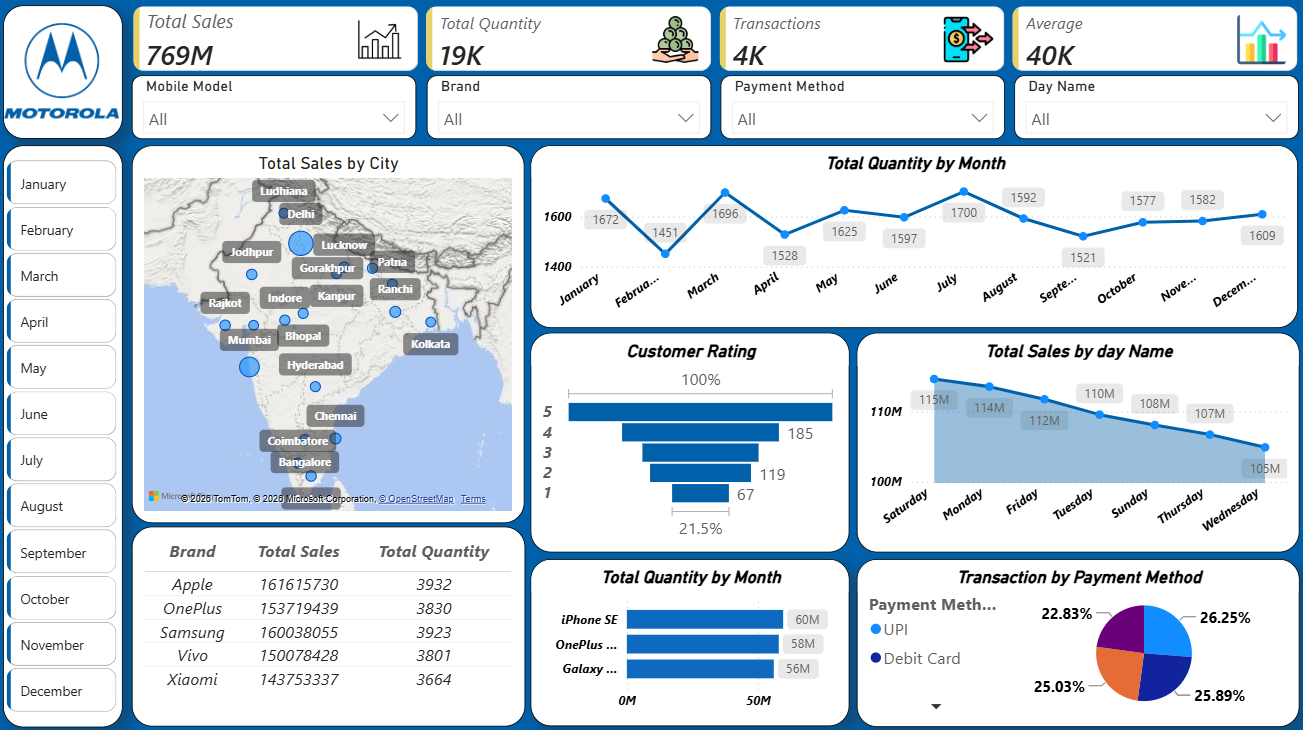

What the dashboard file says about the page in this screenshot:
{"tool":"powerbi","page":{"name":"Page 1","canvas":[1280,720],"ordinal":0},"visuals":[{"type":"shape","box":[4.8,10.9,117,130.3],"z":0},{"type":"image","box":[6,9.7,112.2,130.3],"z":1000},{"type":"shape","box":[4.8,147.2,117,568.2],"z":2000},{"type":"advancedSlicerVisual","fields":{"Values":["Mobile_Sales_Data.Date.Variation.Date Hierarchy.Month"]},"box":[3.6,156.8,117,558.6],"z":3000},{"type":"cardVisual","fields":{"Data":["Mobile_Sales_Data.Total Sales","Mobile_Sales_Data.Total Quantity","Mobile_Sales_Data.Transactions","Mobile_Sales_Data.Average"]},"box":[105,0,1175.1,107.4],"z":4000},{"type":"map","fields":{"Category":["Mobile_Sales_Data.City"],"Size":["Mobile_Sales_Data.Total Sales"]},"box":[130.3,147.2,382.8,369.1],"z":5000},{"type":"lineChart","title":"Total Quantity by Month","fields":{"Y":["Mobile_Sales_Data.Total Quantity"],"Category":["Mobile_Sales_Data.Date.Variation.Date Hierarchy.Month","Mobile_Sales_Data.Date.Variation.Date Hierarchy.Day"]},"box":[520,147.2,749.2,178.6],"z":6000},{"type":"clusteredBarChart","title":"Total Quantity by Month","fields":{"Category":["Mobile_Sales_Data.Mobile Model"],"Y":["Mobile_Sales_Data.Total Sales"]},"box":[520.1,551.6,311.5,163.3],"z":7000},{"type":"pieChart","title":"Transaction by Payment Method ","fields":{"Category":["Mobile_Sales_Data.Payment Method"],"Y":["Mobile_Sales_Data.Transactions"]},"box":[837.3,551.3,431.9,164.1],"z":8000},{"type":"funnel","title":"Customer Rating","fields":{"Category":["Mobile_Sales_Data.Customer Ratings"],"Y":["CountNonNull(Mobile_Sales_Data.Customer Ratings)"]},"box":[520.1,330.7,311.5,214.1],"z":9000},{"type":"areaChart","title":"Total Sales by day Name","fields":{"Y":["Mobile_Sales_Data.Total Sales"],"Category":["Mobile_Sales_Data.Day Name"]},"box":[837.3,330.6,431.9,214.7],"z":10000},{"type":"tableEx","fields":{"Values":["Mobile_Sales_Data.Brand","Mobile_Sales_Data.Total Sales","Mobile_Sales_Data.Total Quantity"]},"box":[130.3,520,383.6,195.4],"z":11000},{"type":"slicer","fields":{"Values":["Mobile_Sales_Data.Mobile Model"]},"box":[130.3,79.6,277.5,62.7],"z":12000},{"type":"slicer","fields":{"Values":["Mobile_Sales_Data.Brand"]},"box":[418.6,79.6,277.5,62.7],"z":13000},{"type":"slicer","fields":{"Values":["Mobile_Sales_Data.Payment Method"]},"box":[704.6,79.6,277.5,62.7],"z":14000},{"type":"slicer","fields":{"Values":["Mobile_Sales_Data.Day Name"]},"box":[991.7,79.6,277.5,62.7],"z":15000}]}

Visuals, with their boxes in screenshot pixels (x1, y1, x2, y2), scaled from the page's 1280x720 canvas onto the 1303x730 screenshot:
shape: select_region(5, 11, 124, 143)
image: select_region(6, 10, 120, 142)
shape: select_region(5, 149, 124, 725)
advancedSlicerVisual - Mobile_Sales_Data.Date.Variation.Date Hierarchy.Month: select_region(4, 159, 123, 725)
cardVisual - Mobile_Sales_Data.Total Sales x Mobile_Sales_Data.Total Quantity: select_region(107, 0, 1302, 109)
map - Mobile_Sales_Data.City x Mobile_Sales_Data.Total Sales: select_region(133, 149, 522, 523)
"Total Quantity by Month" lineChart: select_region(529, 149, 1292, 330)
"Total Quantity by Month" clusteredBarChart: select_region(529, 559, 847, 725)
"Transaction by Payment Method " pieChart: select_region(852, 559, 1292, 725)
"Customer Rating" funnel: select_region(529, 335, 847, 552)
"Total Sales by day Name" areaChart: select_region(852, 335, 1292, 553)
tableEx - Mobile_Sales_Data.Brand x Mobile_Sales_Data.Total Sales: select_region(133, 527, 523, 725)
slicer - Mobile_Sales_Data.Mobile Model: select_region(133, 81, 415, 144)
slicer - Mobile_Sales_Data.Brand: select_region(426, 81, 709, 144)
slicer - Mobile_Sales_Data.Payment Method: select_region(717, 81, 1000, 144)
slicer - Mobile_Sales_Data.Day Name: select_region(1010, 81, 1292, 144)
